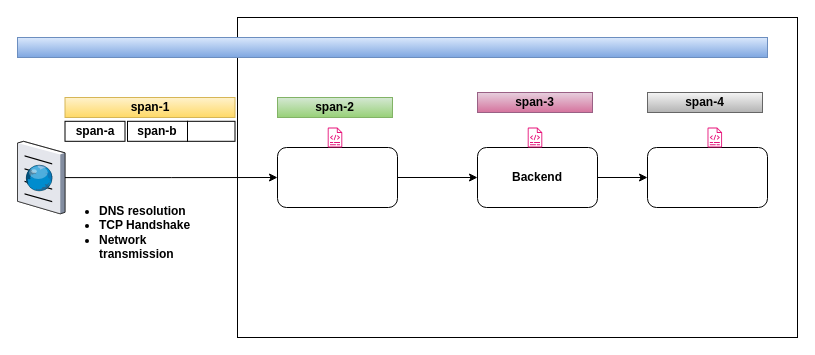
Some shapes in this 815 by 355 pixel diagram are drawn without their labels. Here are the shapes that lost their labels. From the top down, the centre of each, then its label:
the point at 392,47: trace ID
the point at 210,130: span-c
the point at 337,177: Frontend
the point at 707,177: Database
